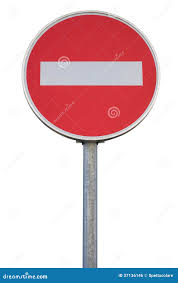No entry: (22, 13, 158, 144)
